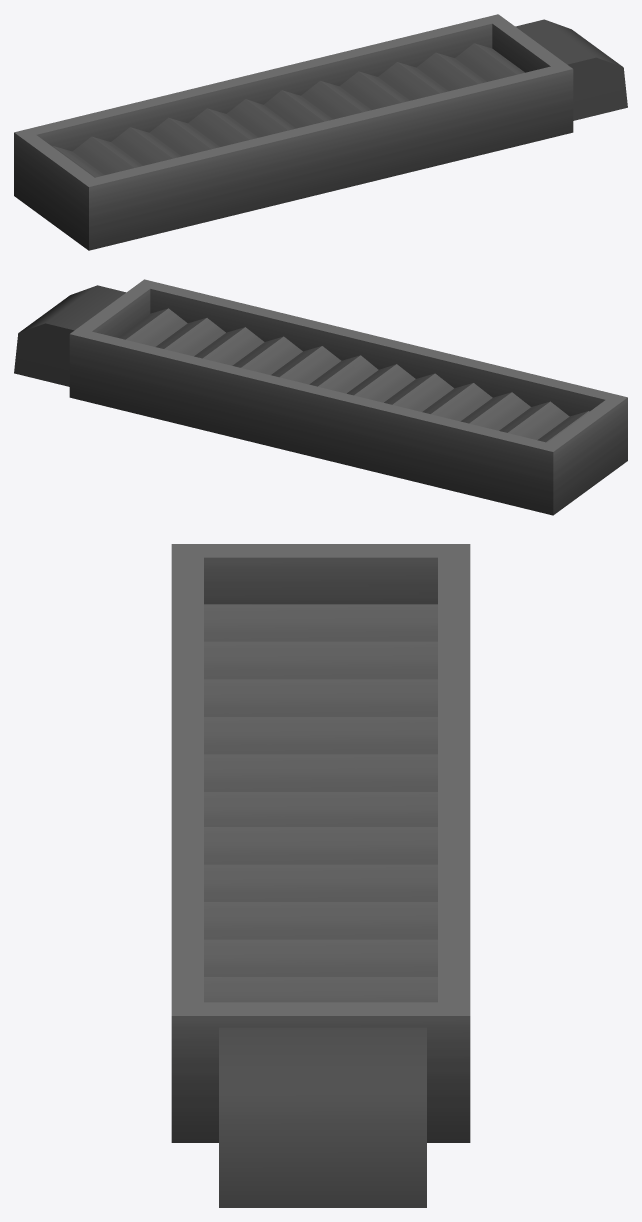
The model's file is Vent_1_C_1.fbx.
3 renders of one model, top to bottom at view 1: azimuth 30°, elevation 25°; view 2: azimuth 150°, elevation 25°; view 3: azimuth 270°, elevation 25°, orthographic. The views are drawn at different scales.
Parts seen in each view (by area): view 1: Vent_1_C_1; view 2: Vent_1_C_1; view 3: Vent_1_C_1.
Part boxes in pixels (x1,y1,x2,y2): Vent_1_C_1: [14, 14, 627, 250]; Vent_1_C_1: [14, 279, 627, 515]; Vent_1_C_1: [171, 544, 470, 1207].
Bounding box in the file's own units: 242 × 26.71 × 56.97.
